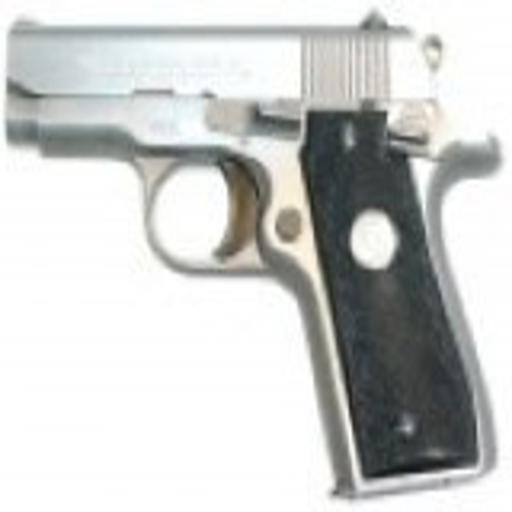Handgun: (2, 11, 504, 493)
